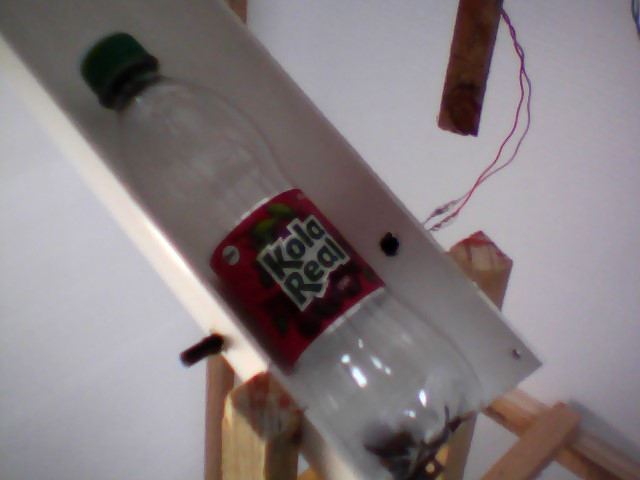plastico: (80, 24, 495, 480)
